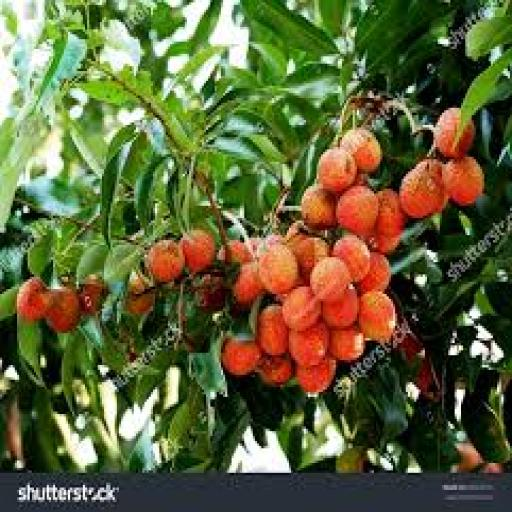lychee: (400, 160, 446, 218), (434, 108, 475, 159), (336, 187, 378, 235), (442, 157, 484, 205), (260, 243, 299, 293), (340, 128, 382, 173), (360, 292, 397, 342), (289, 321, 329, 367), (319, 147, 356, 193), (311, 258, 350, 301), (332, 236, 369, 281), (45, 287, 80, 333), (147, 241, 184, 284), (283, 287, 320, 330), (17, 277, 53, 320), (258, 304, 288, 355), (221, 339, 261, 377), (181, 231, 216, 274), (323, 287, 359, 328), (302, 187, 335, 230), (296, 358, 335, 394), (234, 263, 265, 306), (377, 189, 405, 235), (330, 326, 365, 362), (360, 253, 390, 293), (79, 275, 108, 313), (258, 356, 293, 387), (217, 241, 252, 264)
